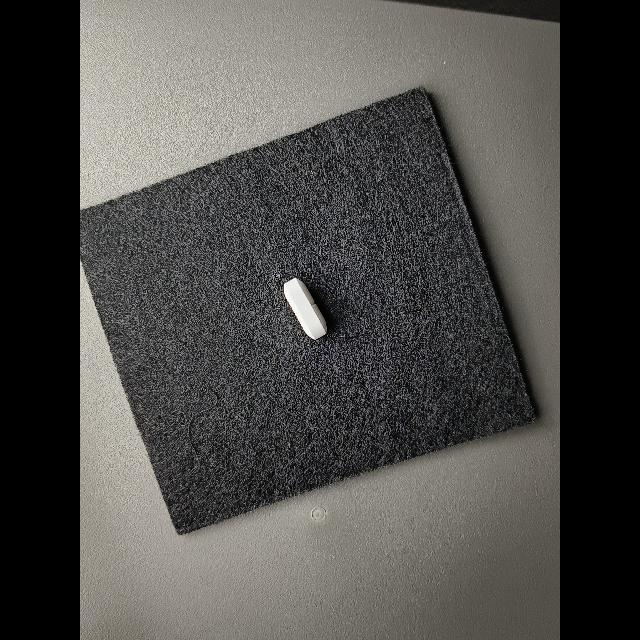Intact Pill: (283, 277, 327, 340)
